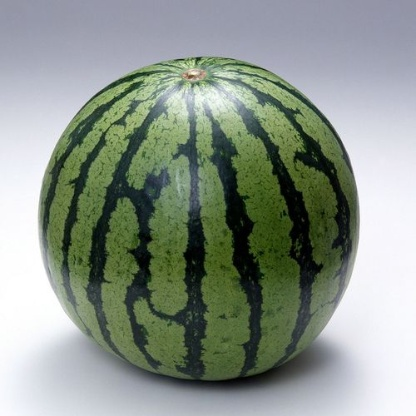duahau: (32, 62, 356, 375)
